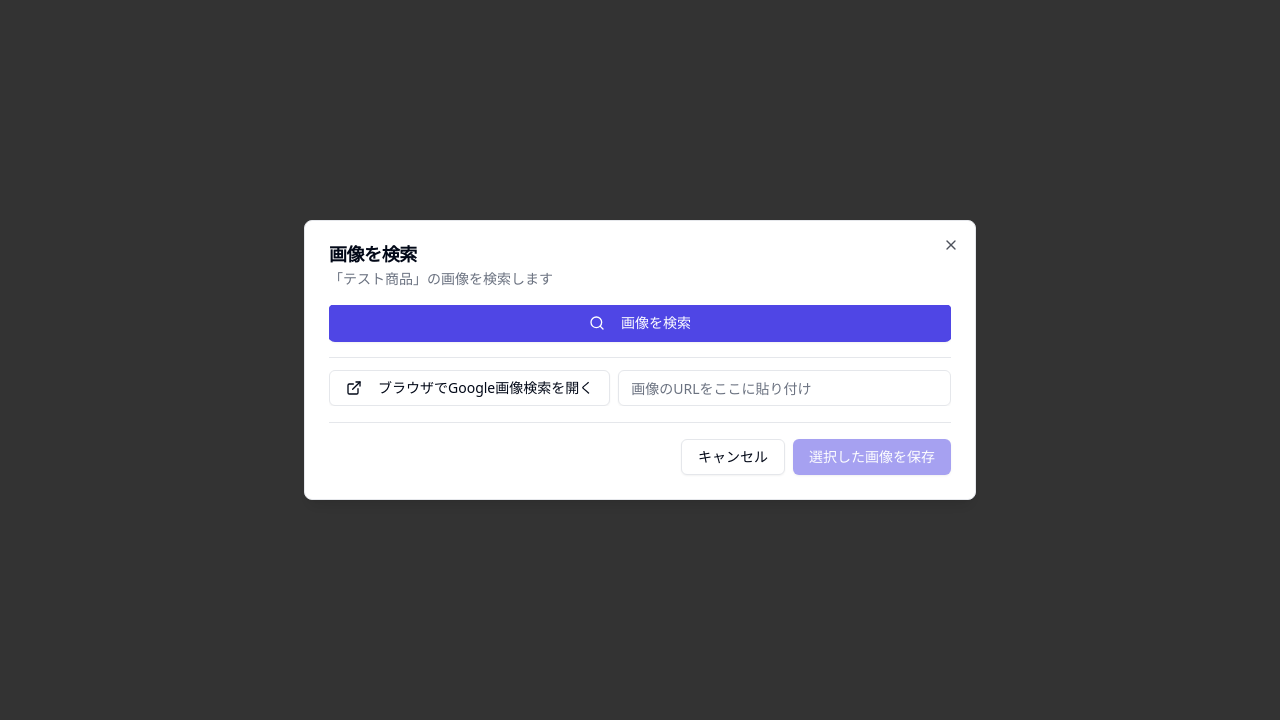
it: ImageSearchDialog › shows error when search fails
Click the button "画像を検索": (640, 323) 329,305 -> 951,341
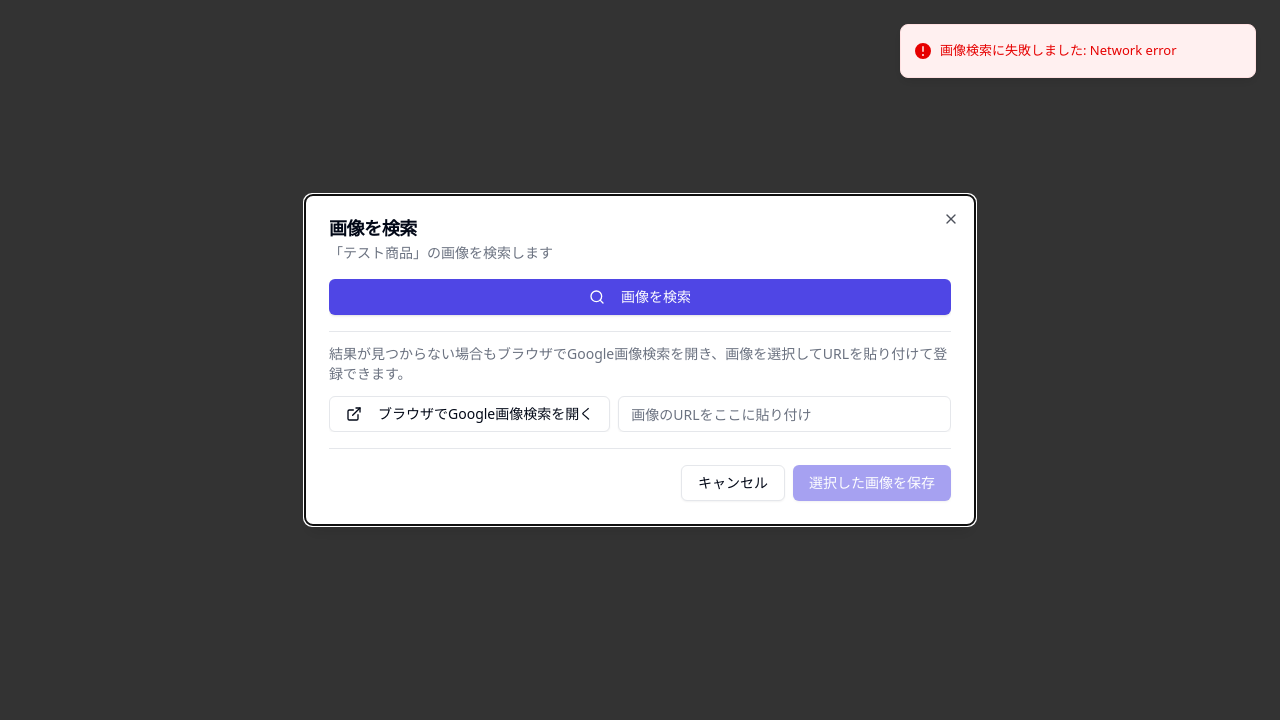
Check: the text "画像検索に失敗しました: Network error" is shown, box 940,41 -> 1177,60
